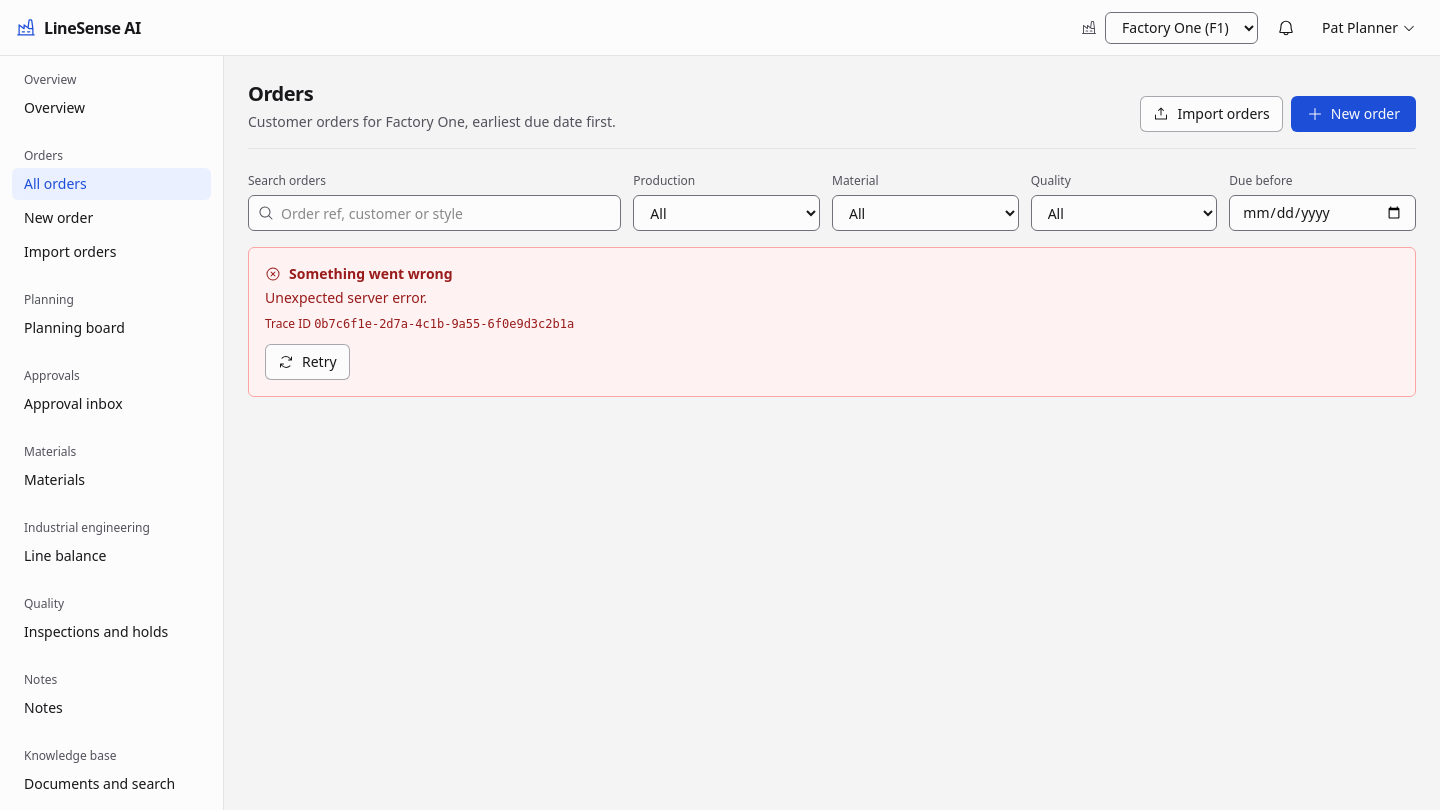
Test case: OrdersPage › shows the error with its trace id and retries on request
Expected: the message shows "Unexpected server error.", x1=265 y1=288 x2=427 y2=307
Expected: the message shows "0b7c6f1e-2d7a-4c1b-9a55-6f0e9d3c2b1a", x1=314 y1=317 x2=574 y2=331
Click the button "Retry".
click(307, 362)  # box x1=265 y1=344 x2=350 y2=380
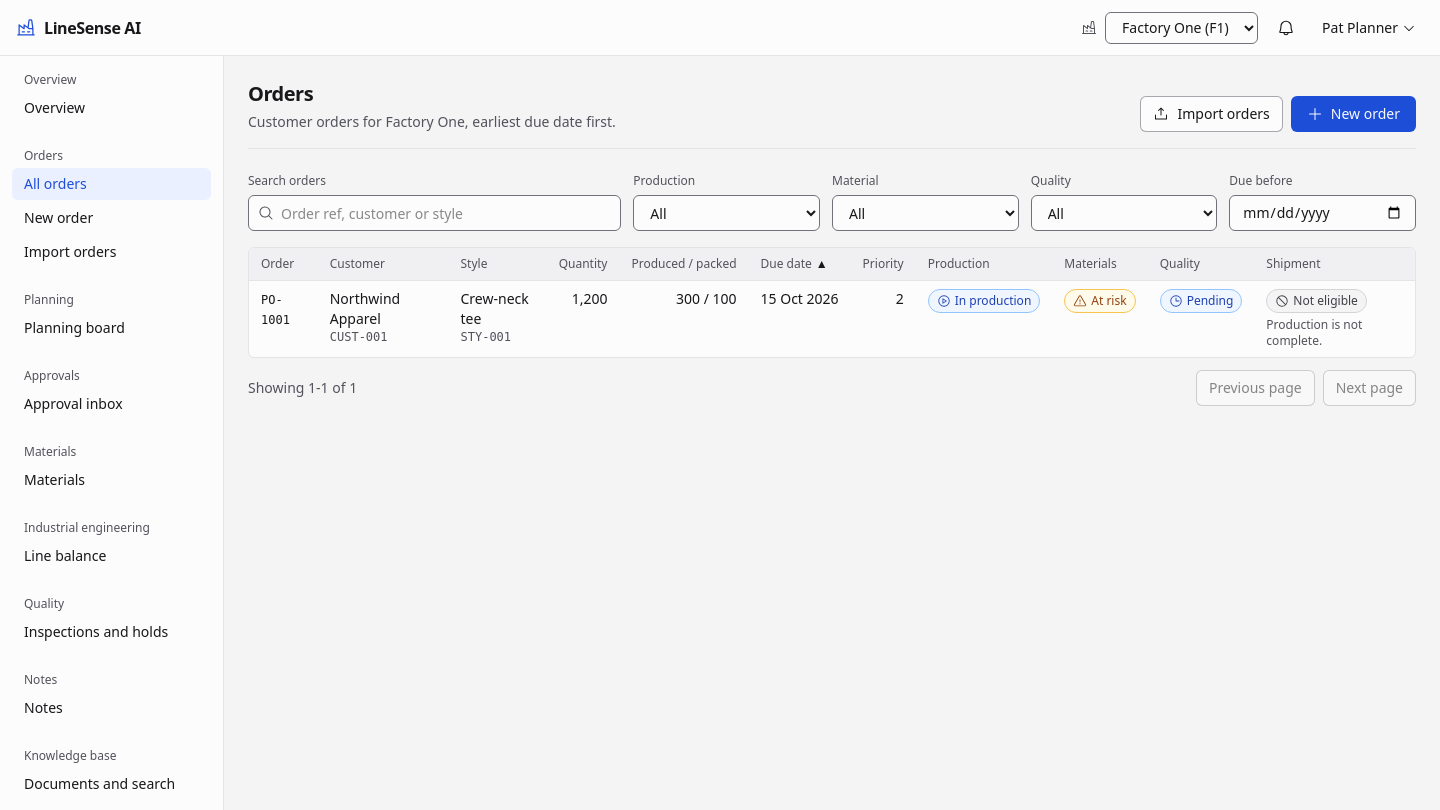
Expected: the text "PO-1001" is shown, x1=261 y1=293 x2=290 y2=327
